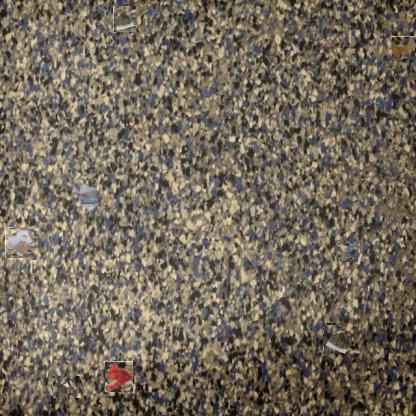dirty: (6, 228, 38, 259), (76, 184, 102, 212), (323, 324, 347, 354), (53, 376, 81, 398), (113, 7, 137, 32), (338, 242, 358, 262)
liquid: (105, 362, 134, 392), (393, 36, 416, 58)
